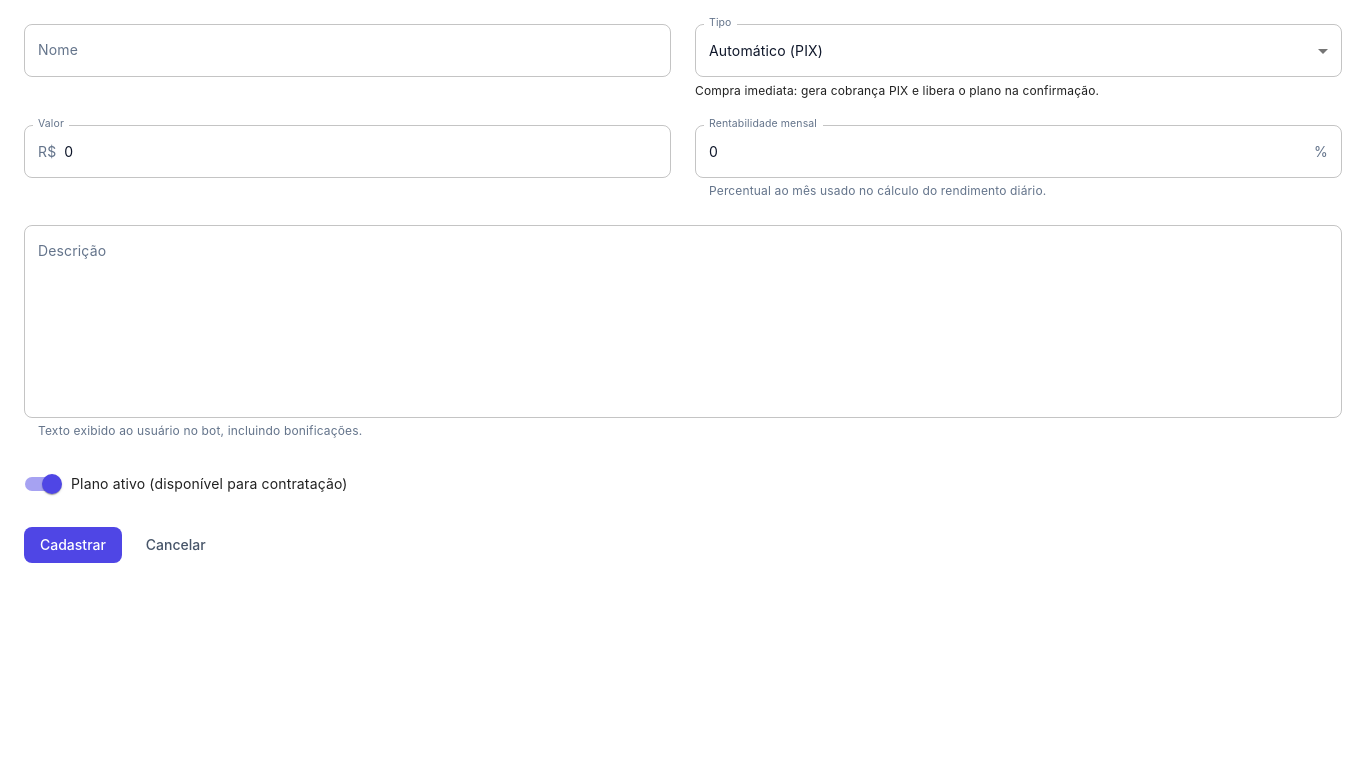
Scenario: PlanForm › rejeita rentabilidade acima do limite da coluna (999,99%)
The width and height of the screenshot is (1366, 768).
In the field labelled "Nome": (348, 51) [24, 24, 671, 77], type "Plano X"
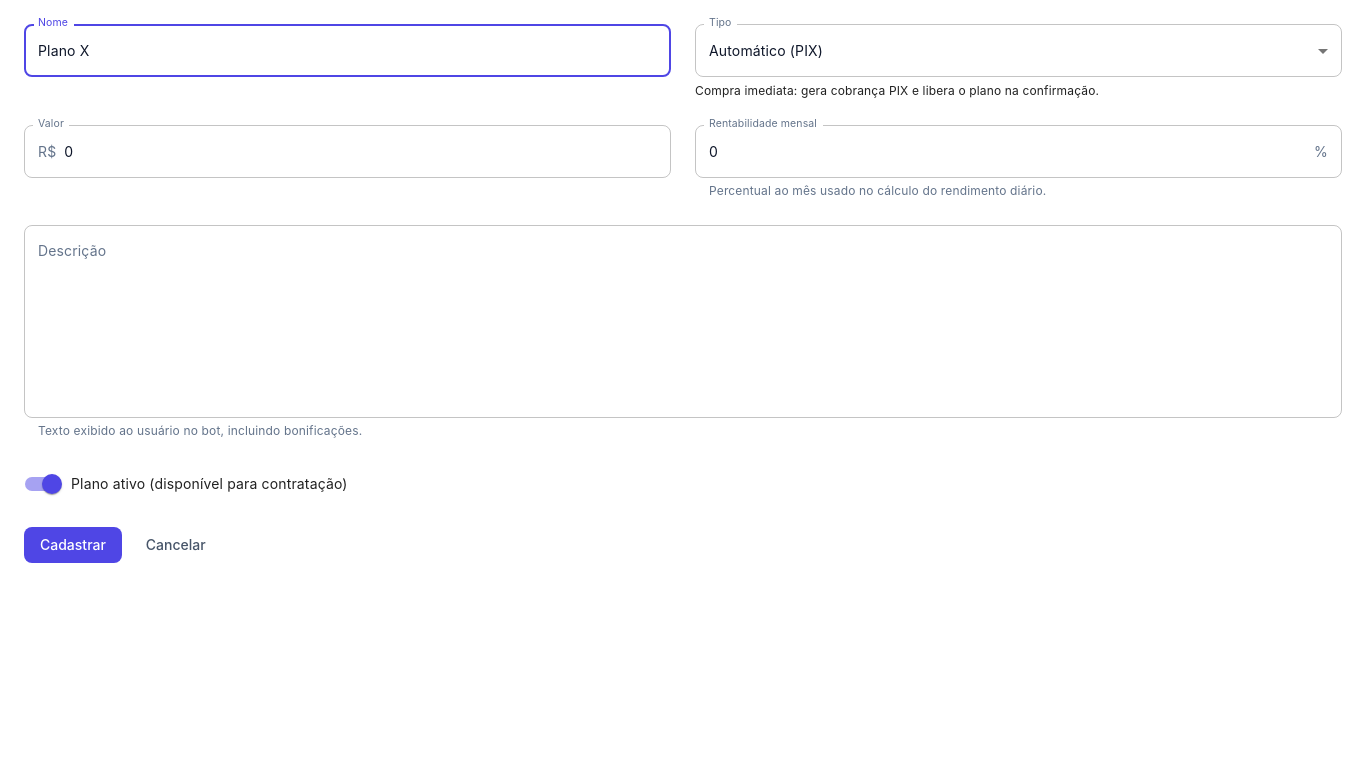
In the text box labelled "Descrição": (683, 322) [38, 242, 1328, 402], type "Desc"
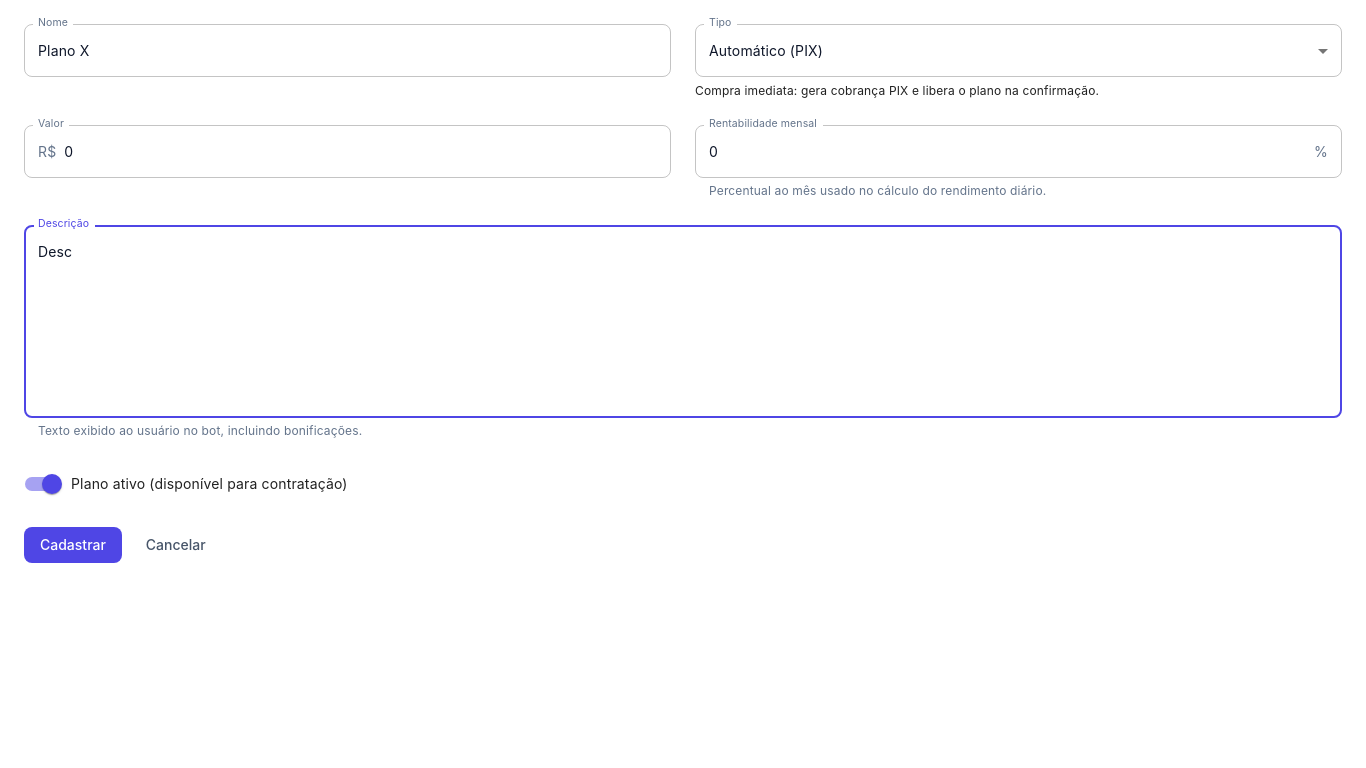
Replace the text in the number field labelled "Rentabilidade mensal" with "1500": (1001, 152) [695, 125, 1306, 178]
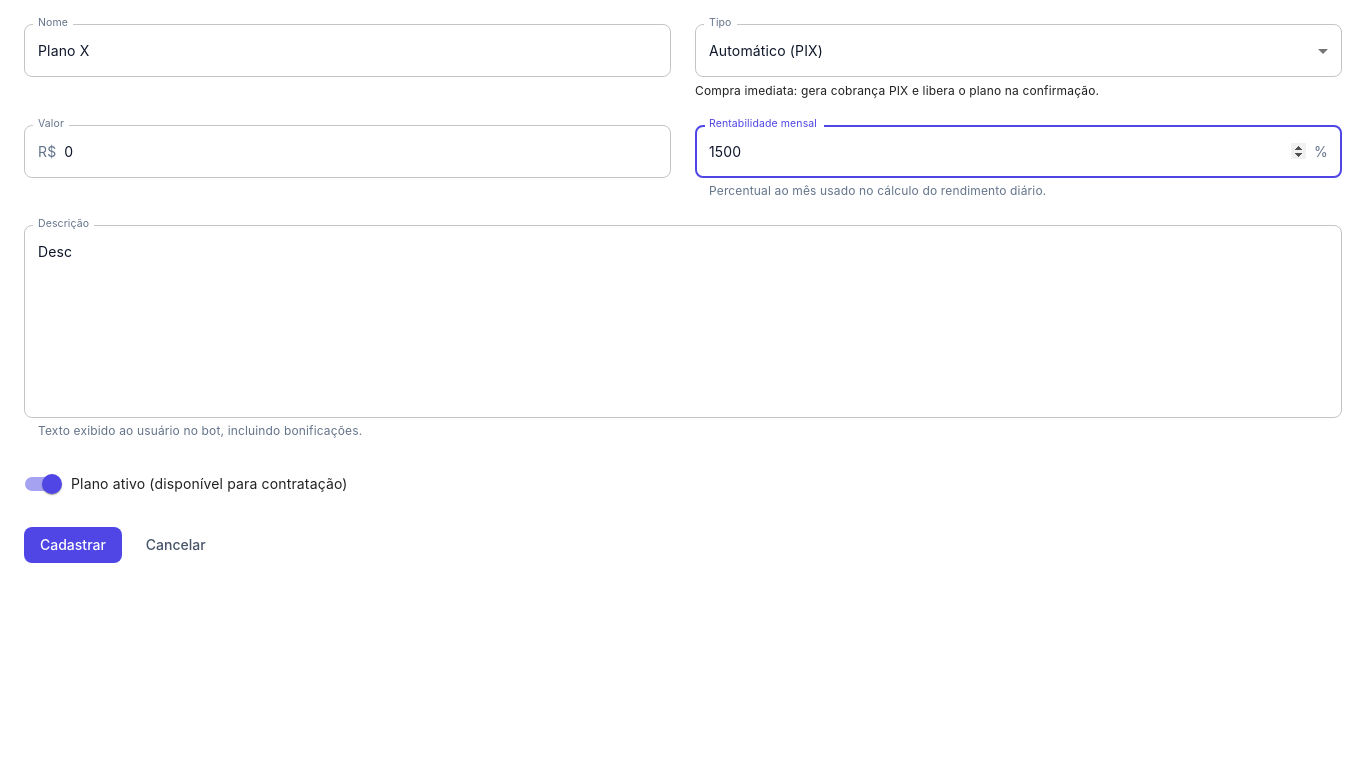
Click the button "Cadastrar": (73, 545) [24, 527, 122, 564]
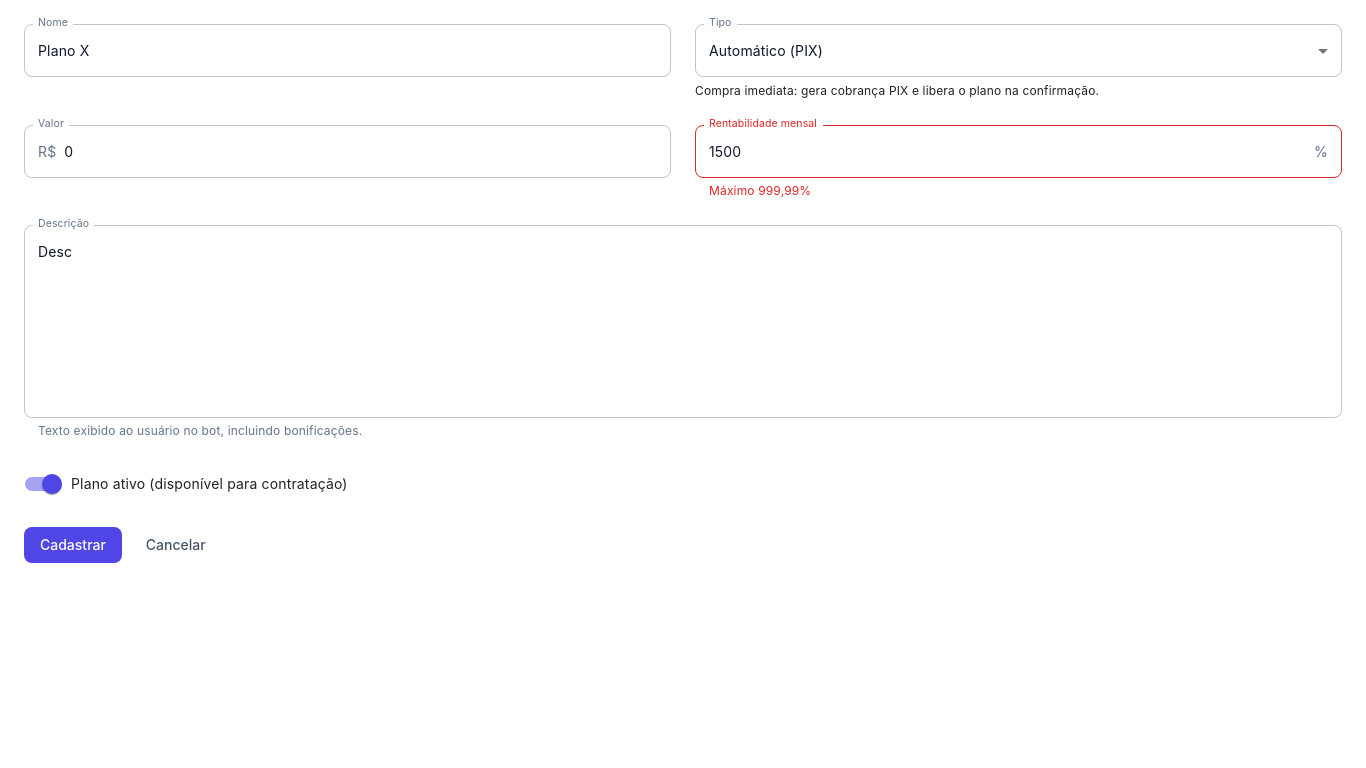
Check: the text "Máximo 999,99%" is shown, box [709, 183, 811, 198]
